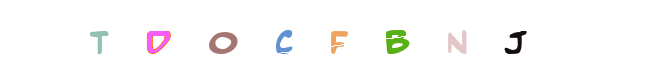0: (211, 0, 291, 80)
B: (356, 0, 436, 80)
C: (253, 0, 333, 80)
D: (168, 0, 248, 80)
F: (285, 0, 365, 80)
J: (476, 0, 556, 80)
N: (357, 0, 437, 80)
T: (116, 0, 196, 80)
